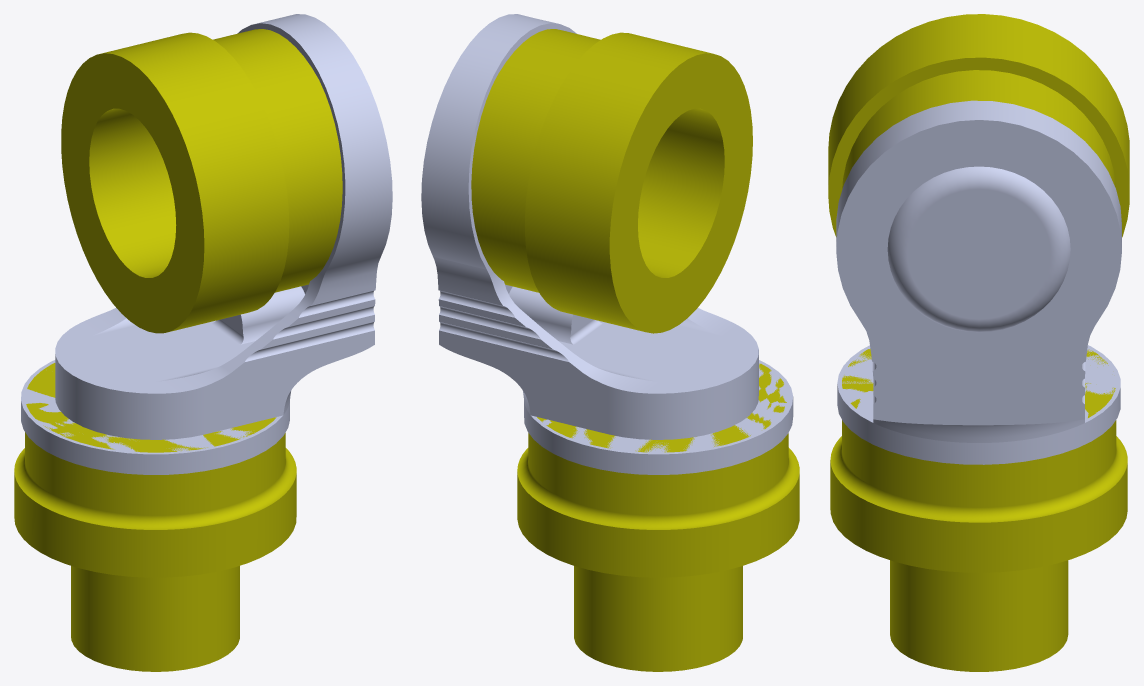
3 renders of one model, left to right at view 1: azimuth 30°, elevation 25°; view 2: azimuth 150°, elevation 25°; view 3: azimuth 270°, elevation 25°, orthographic. The views are drawn at different scales.
Visible parts, largest first — view 1: Actor0; view 2: Actor0; view 3: Actor0.
Boxes of the visible parts, bbox=[...] form: Actor0: bbox=[14, 14, 392, 671]; Actor0: bbox=[421, 14, 799, 671]; Actor0: bbox=[828, 14, 1129, 671].
Size of the model in its own units: 0.16 by 0.2937 by 0.1319.
